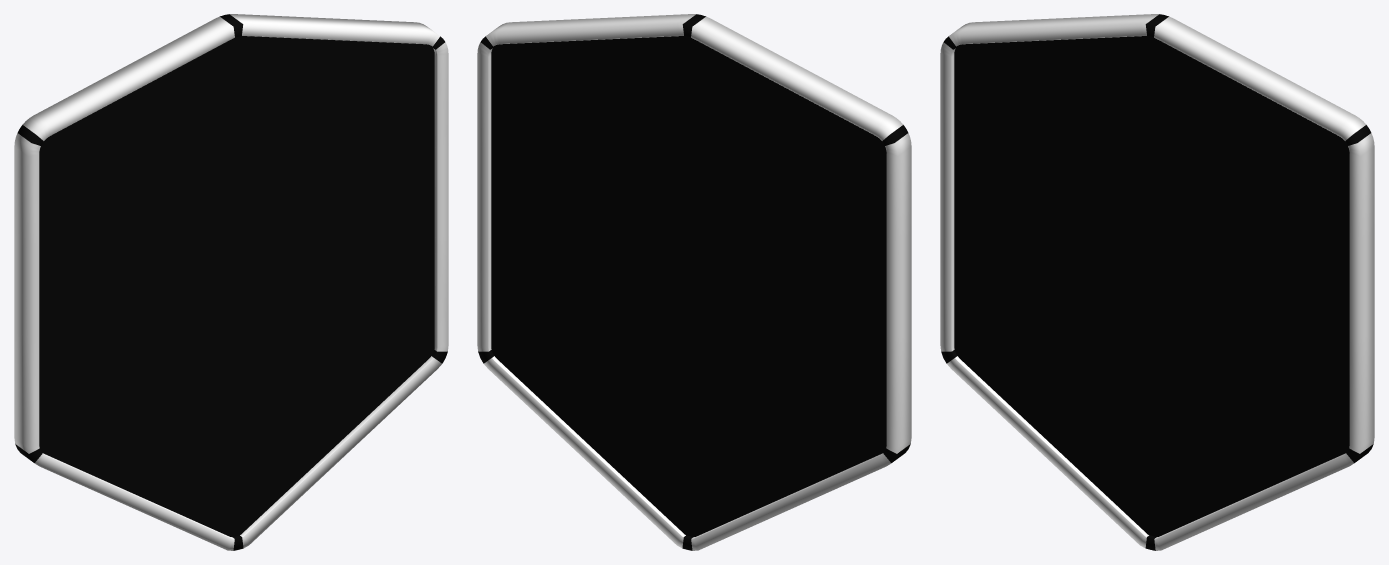
File: shield.glb
3 renders of one model, left to right at view 1: azimuth 30°, elevation 25°; view 2: azimuth 150°, elevation 25°; view 3: azimuth 330°, elevation 25°, orthographic.
Visible parts, largest first — view 1: Object007, shit009; view 2: Object007, shit009; view 3: Object007, shit009.
Boxes of the visible parts, left/top/right/bottom form: Object007: left=15, top=14, right=447, bottom=550; shit009: left=14, top=14, right=448, bottom=550; Object007: left=478, top=14, right=910, bottom=550; shit009: left=477, top=14, right=911, bottom=550; Object007: left=941, top=14, right=1373, bottom=550; shit009: left=940, top=14, right=1374, bottom=550.
Bounding box in the file's own units: 2.1 × 2.5 × 0.1202.
1 material, 1 textured.
